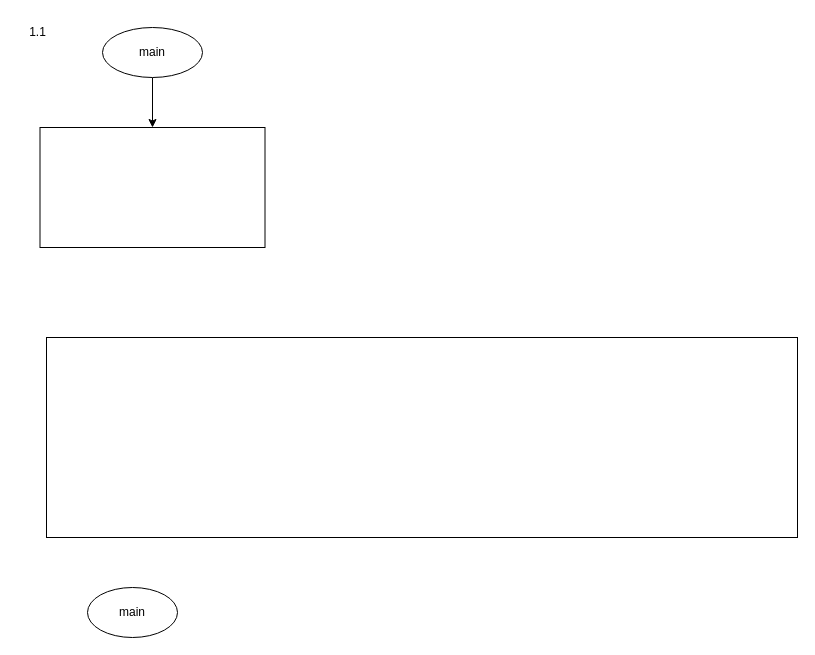
This 815x655 diagram has some shape labels left out. Each missing label, with the centre of its shape:
groups = Course.objects.select_related(Education): point (422, 437)
Инициализация временной теблицы: pk varchar uuid name varchar free_p smallint: point (152, 187)
